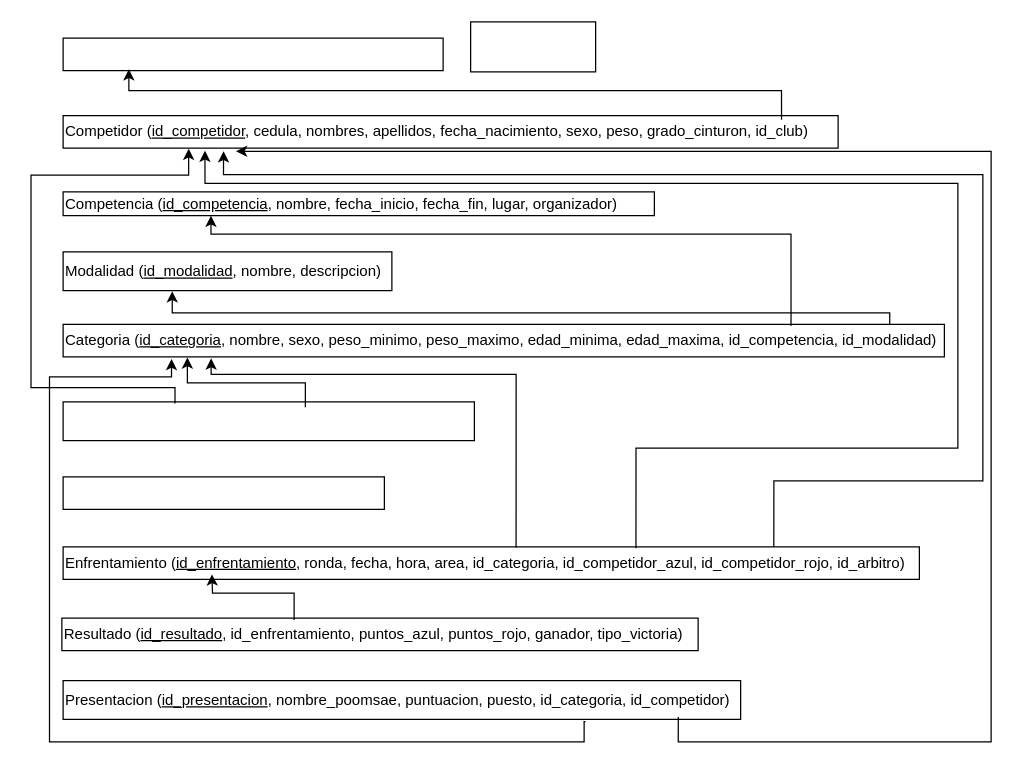
This 1024x774 diagram has some shape labels left out. The shapes that lost their labels are listed below. From the top down, each one's centre as x and y in pixels, then its label:
At point (252, 54): "Club ( id_club , nombre, ciudad, direccion, telefono)".
At point (532, 46): "Matias Labanda".
At point (268, 421): "Inscripcion ( id_competidor , id_categoria , fecha_inscripcion)".
At point (223, 492): "Arbitro ( id_arbitro , cedula, nombres, apellidos)".
